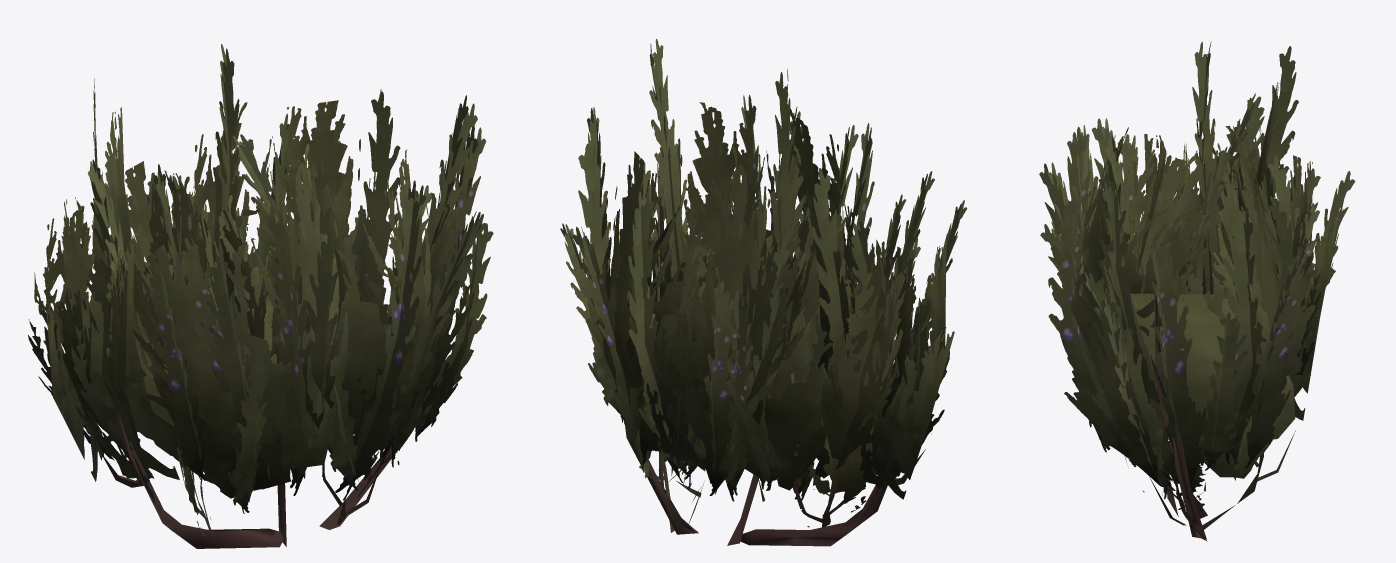
3 views of the same model, side by side, from view 1: azimuth 30°, elevation 25°; view 2: azimuth 150°, elevation 25°; view 3: azimuth 270°, elevation 25° (orthographic). The views are drawn at different scales.
Visible parts, largest first — view 1: body0_model0_lod0_mesh0; view 2: body0_model0_lod0_mesh0; view 3: body0_model0_lod0_mesh0.
Part boxes in pixels (left/top/right/bottom): body0_model0_lod0_mesh0: left=28, top=44, right=493, bottom=548; body0_model0_lod0_mesh0: left=560, top=39, right=967, bottom=546; body0_model0_lod0_mesh0: left=1039, top=41, right=1355, bottom=541.
Size of the model in its own units: 93.35 by 110 by 76.01.
Materials: 1 (1 with a texture image).
